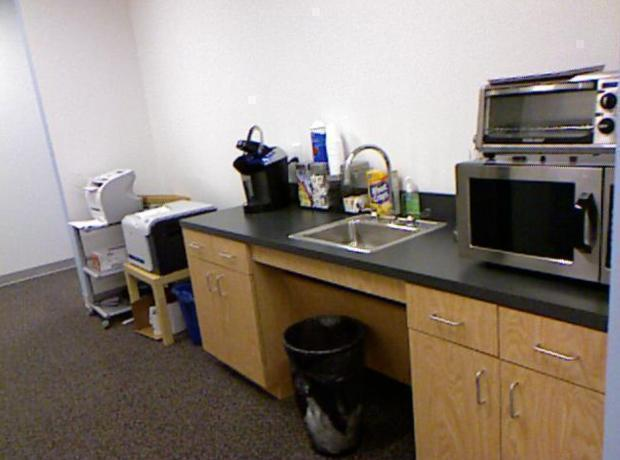Bote de Basura: (279, 314, 370, 455)
Lavaplatos: (289, 123, 441, 278)
